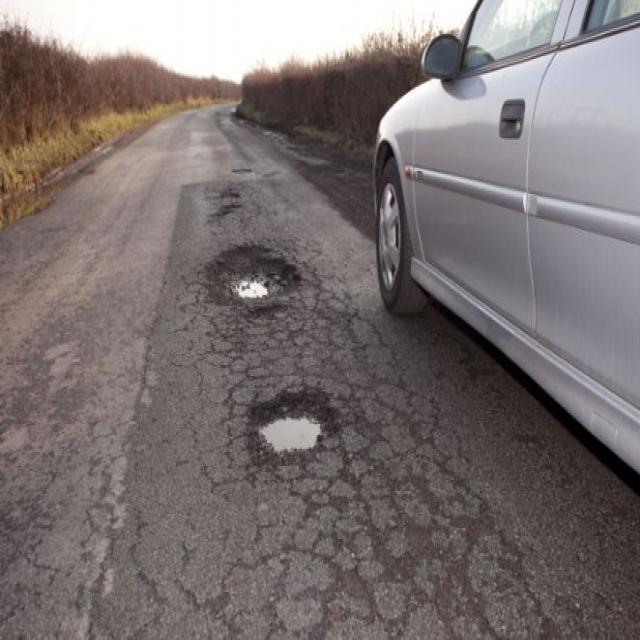Pothole: (250, 379, 343, 462), (202, 238, 305, 305)
